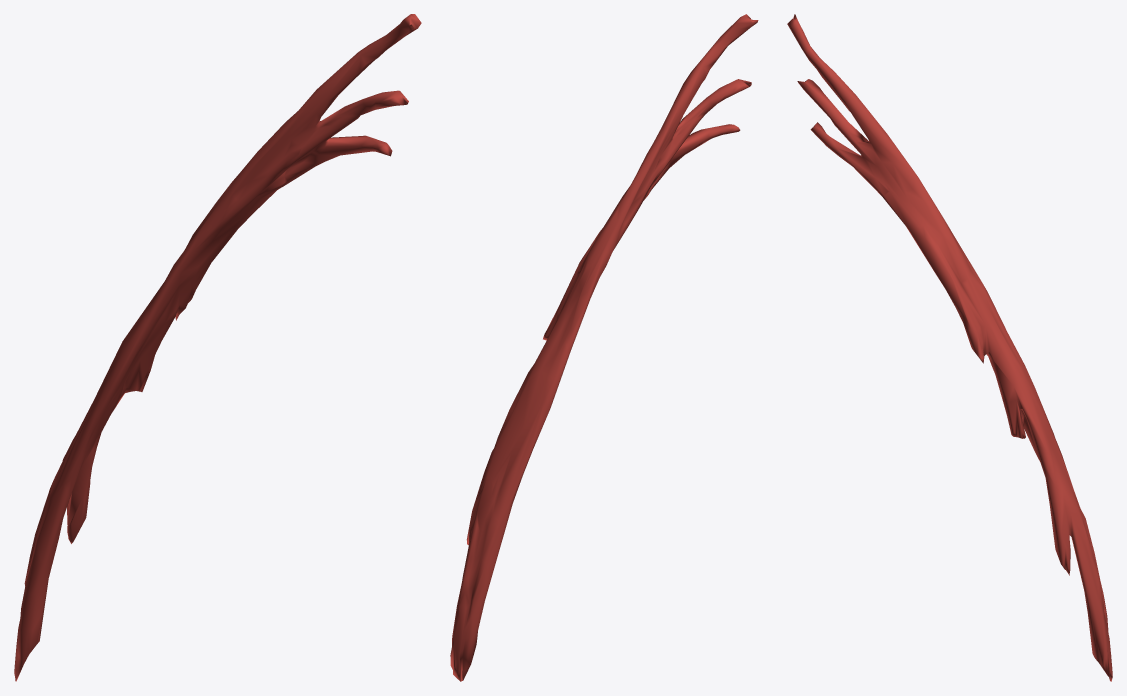
File: musculos-iliocostalis-colli-muscle.glb
3 renders of one model, left to right at view 1: azimuth 90°, elevation 25°; view 2: azimuth 150°, elevation 25°; view 3: azimuth 270°, elevation 25°, orthographic. The views are drawn at different scales.
Visible parts, largest first — view 1: Iliocostalis colli muscle; view 2: Iliocostalis colli muscle; view 3: Iliocostalis colli muscle.
Boxes of the visible parts, <box> form: Iliocostalis colli muscle: <box>14,14,421,681</box>; Iliocostalis colli muscle: <box>450,14,758,681</box>; Iliocostalis colli muscle: <box>787,14,1112,681</box>.
Size of the model in its own units: 0.0505 by 0.1763 by 0.0869.
